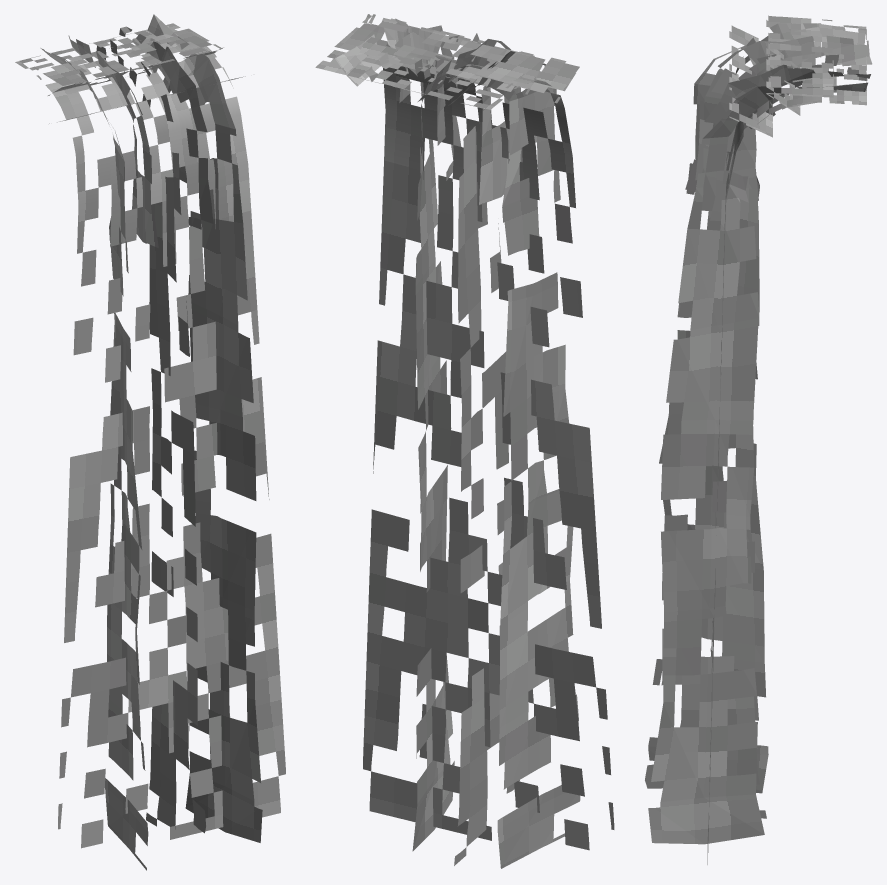
Rendered from vanilla_effects_fxwaterfallthin512x128-a7b139e5.glb.
3 renders of one model, left to right at view 1: azimuth 30°, elevation 25°; view 2: azimuth 150°, elevation 25°; view 3: azimuth 270°, elevation 25°, orthographic. The views are drawn at different scales.
Parts seen in each view (by area): view 1: es|fallsMesh, es|Object02; view 2: es|fallsMesh, es|Object02; view 3: es|Object02, es|fallsMesh.
Part boxes in pixels (x1,y1,x2,y2): es|fallsMesh: [15, 23, 285, 848]; es|Object02: [40, 14, 262, 870]; es|fallsMesh: [315, 14, 614, 850]; es|Object02: [335, 18, 580, 868]; es|Object02: [645, 23, 872, 844]; es|fallsMesh: [707, 15, 866, 864].
Size of the model in its own units: 2.35 by 7.51 by 2.02.
2 materials, 2 textured.
